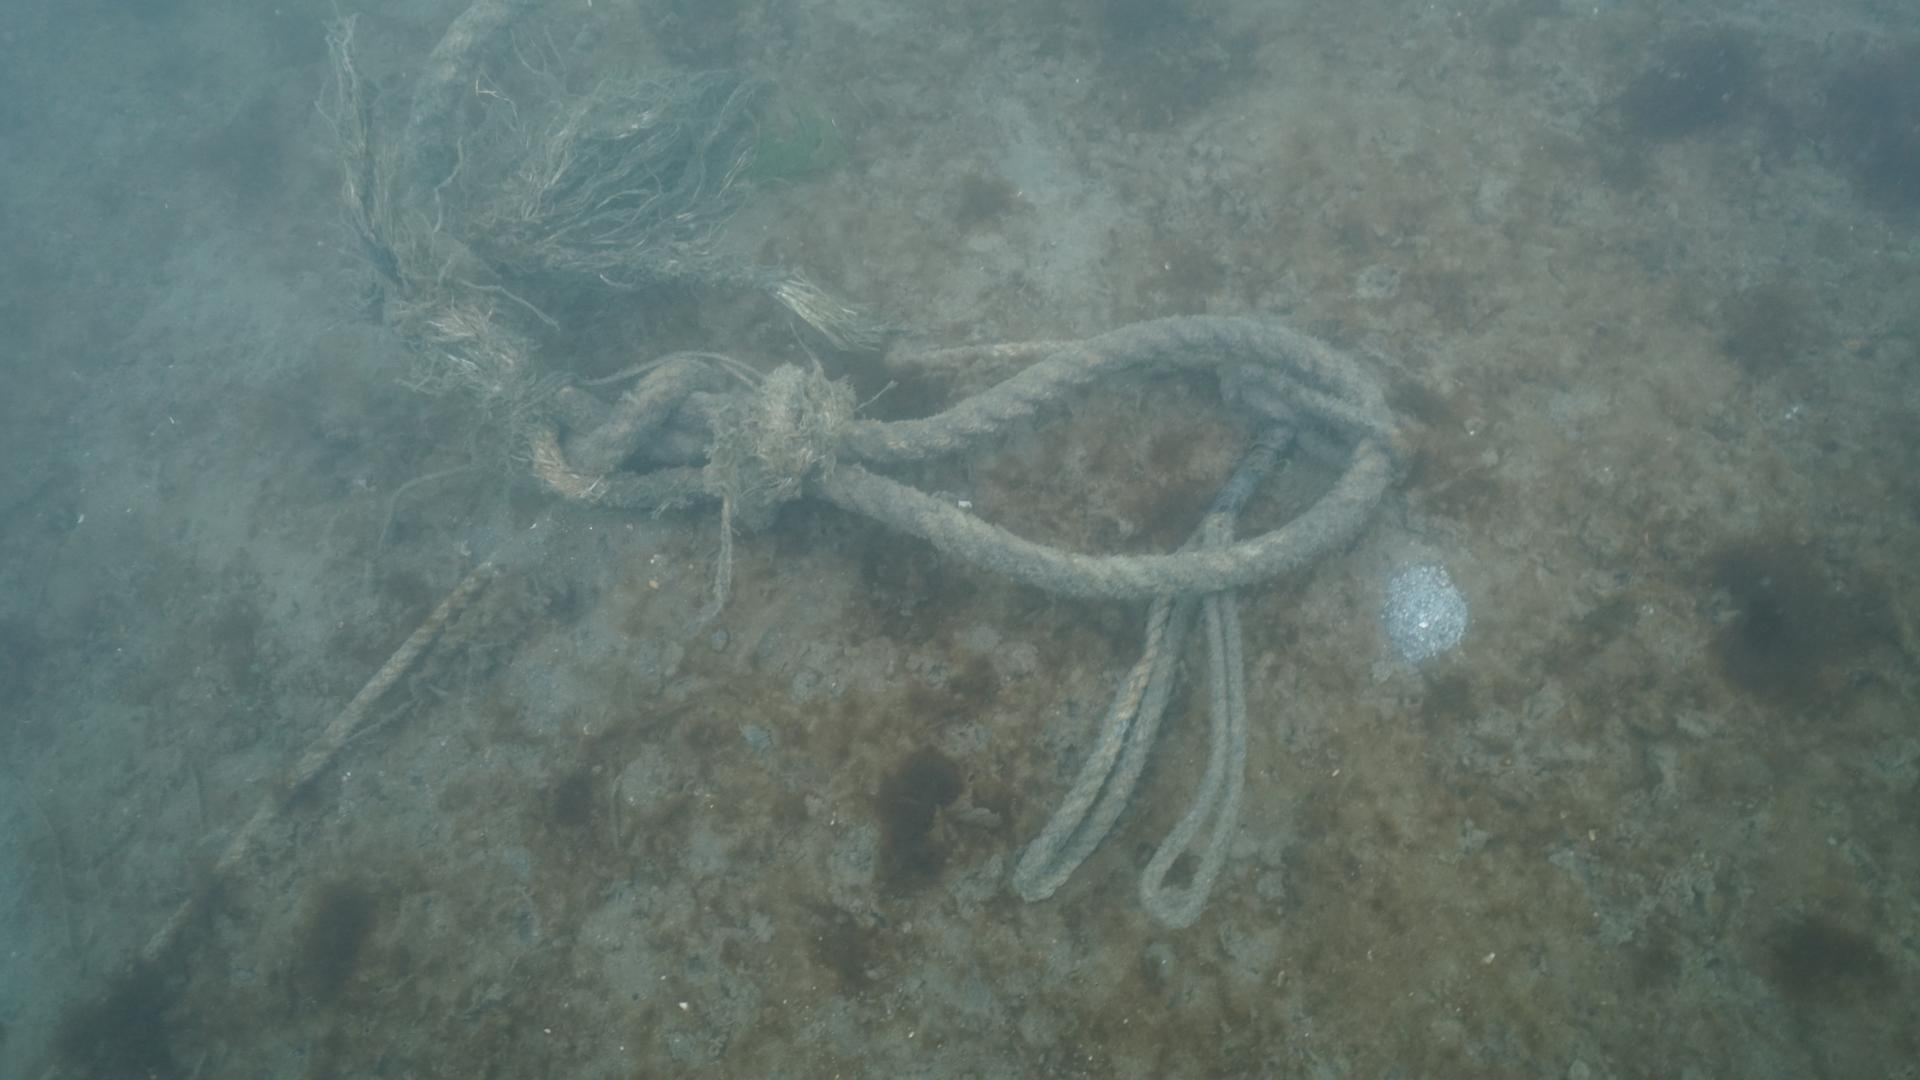bundle of ropes: (309, 0, 1431, 943)
